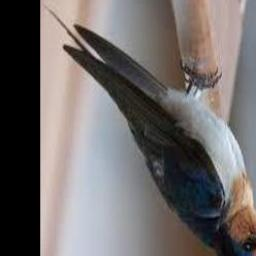Swallow: (44, 5, 256, 256)
